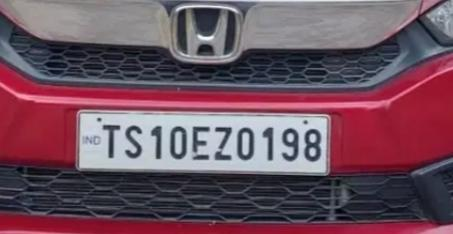0: (167, 121, 190, 164), (235, 124, 258, 163)
1: (261, 125, 277, 163), (150, 121, 164, 163)
8: (300, 125, 325, 165)
9: (279, 125, 302, 163)
E: (190, 121, 213, 163)
S: (123, 120, 148, 159)
T: (100, 119, 123, 165)
Z: (211, 120, 237, 163)
